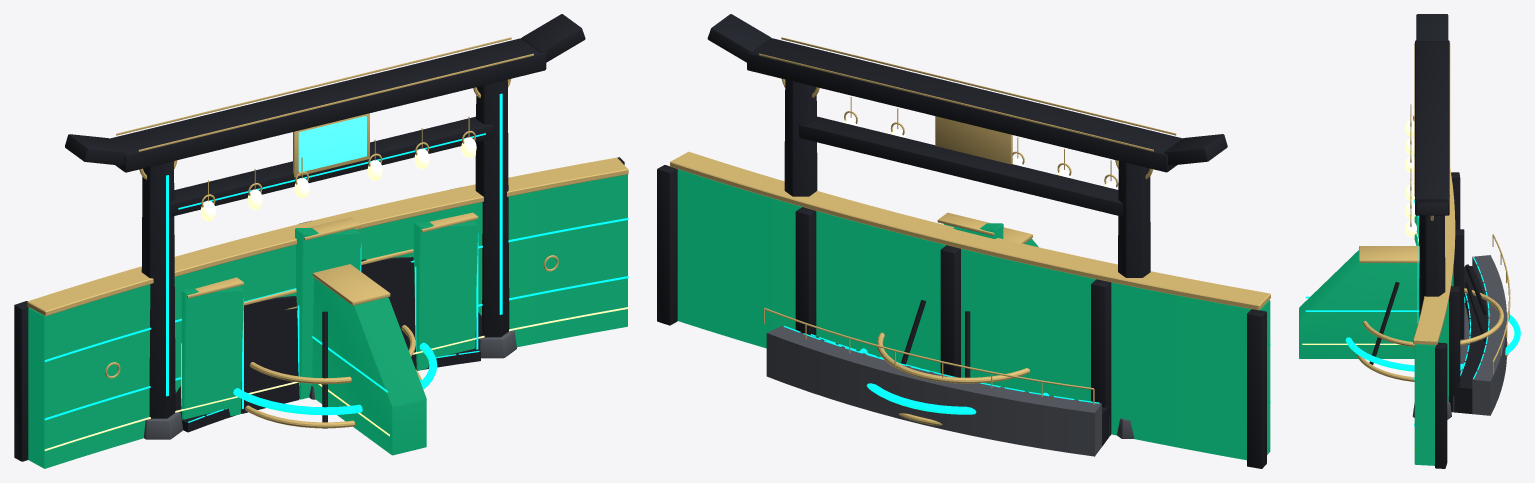
The model's file is shaddai_park_dress_v01.glb.
3 renders of one model, left to right at view 1: azimuth 30°, elevation 25°; view 2: azimuth 150°, elevation 25°; view 3: azimuth 270°, elevation 25°, orthographic. The views are drawn at different scales.
Visible parts, largest first — view 1: wall_curve, park_gate, wall_facet, wall_fin, park_crown, park_stand; view 2: wall_curve, park_gate, park_stand, park_crown, wall_facet; view 3: wall_fin, park_gate, wall_curve, park_stand, park_crown.
Boxes of the visible parts, x1,y1,x2,y2 form: wall_curve: [14, 157, 628, 468]; park_gate: [65, 14, 585, 439]; wall_facet: [147, 212, 512, 419]; wall_fin: [312, 264, 426, 455]; park_crown: [233, 311, 437, 428]; park_stand: [182, 347, 480, 432]; wall_curve: [657, 151, 1270, 468]; park_gate: [707, 14, 1227, 438]; park_stand: [763, 308, 1109, 456]; park_crown: [860, 300, 1048, 425]; wall_facet: [937, 212, 1003, 238]; wall_fin: [1299, 246, 1419, 358]; park_gate: [1405, 14, 1451, 419]; wall_curve: [1413, 116, 1464, 468]; park_stand: [1448, 234, 1510, 415]; park_crown: [1345, 264, 1520, 381].
Size of the model in its own units: 41.39 by 20.22 by 16.64.
